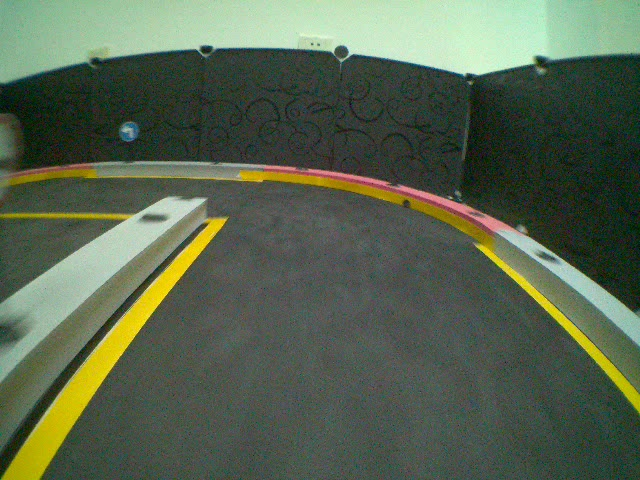turn: (117, 120, 140, 142)
